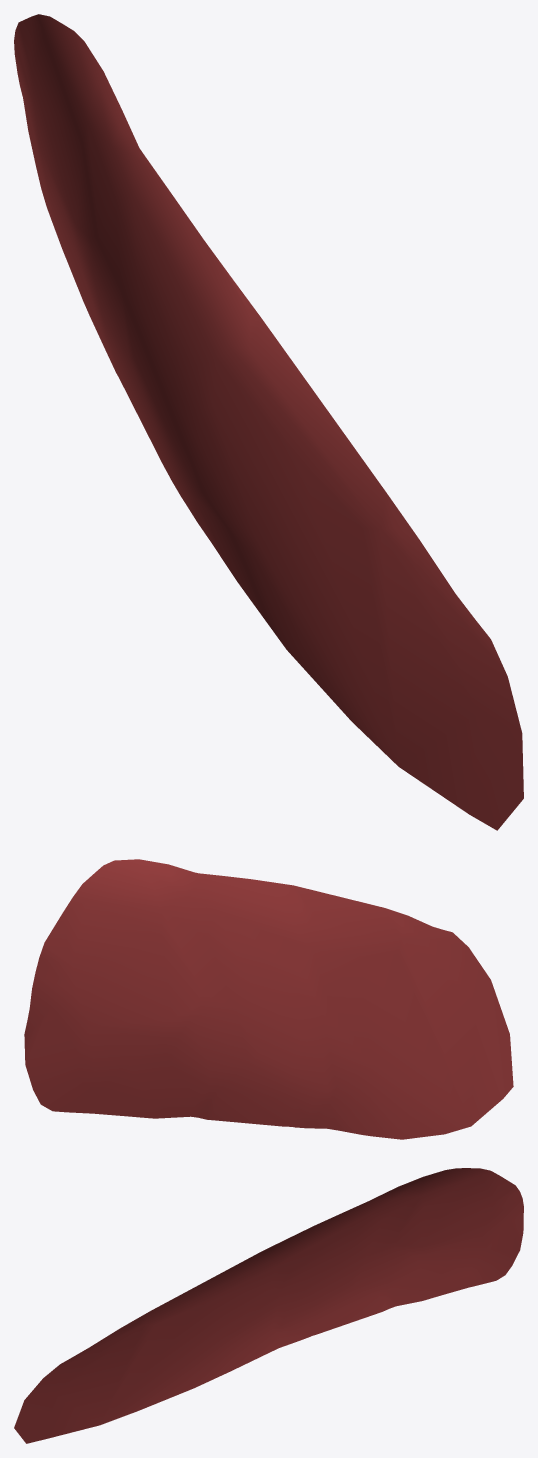
The model's file is serratus-anterior-muscle-e6r.glb.
3 renders of one model, top to bottom at view 1: azimuth 30°, elevation 25°; view 2: azimuth 150°, elevation 25°; view 3: azimuth 270°, elevation 25°, orthographic. The views are drawn at different scales.
Parts seen in each view (by area): view 1: Serratus anterior muscle.e6r; view 2: Serratus anterior muscle.e6r; view 3: Serratus anterior muscle.e6r.
Part boxes in pixels (x1,y1,x2,y2): Serratus anterior muscle.e6r: (14,14,523,830); Serratus anterior muscle.e6r: (24,859,513,1139); Serratus anterior muscle.e6r: (14,1168,523,1443).
Size of the model in its own units: 0.00554 by 0.0294 by 0.0502.
